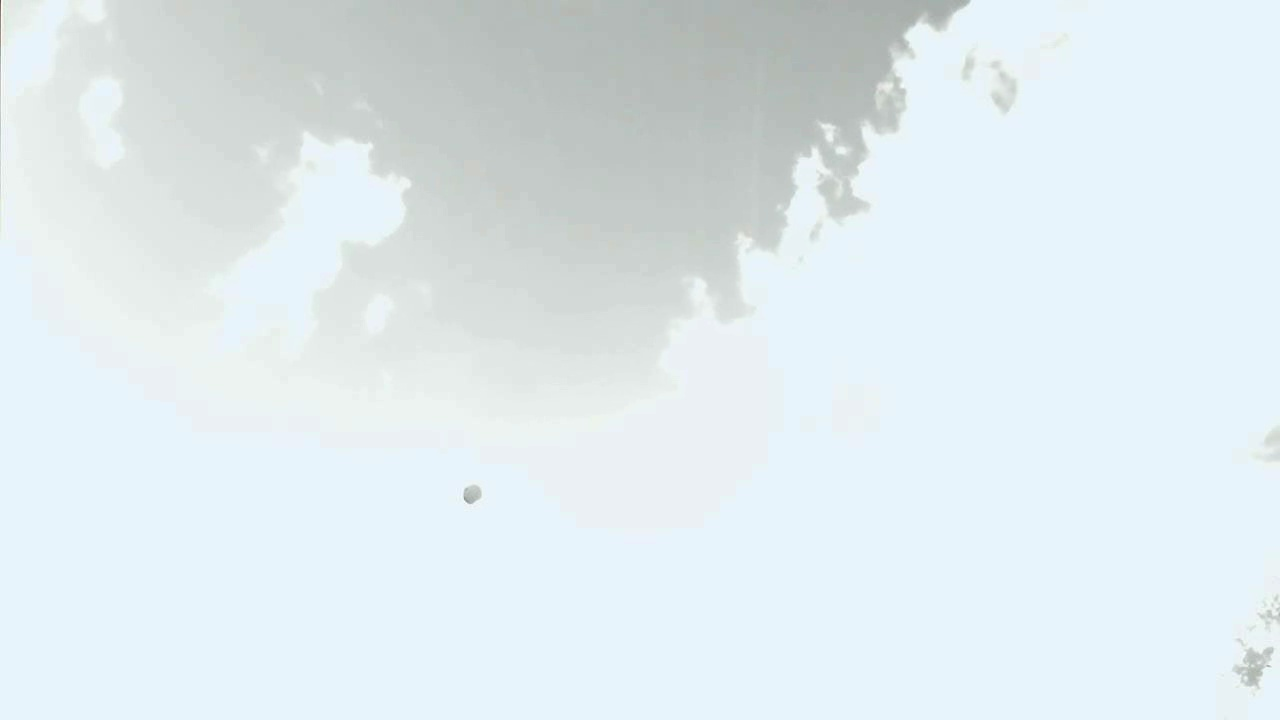Football-Spotter: (463, 485, 481, 504)
